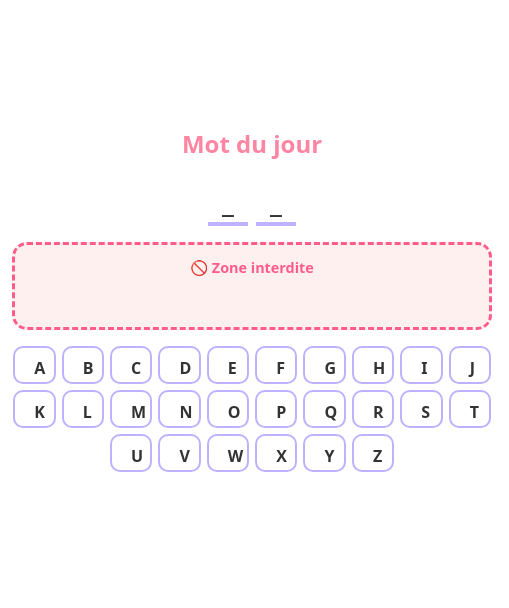
Test case: WordGame — interaction › affiche le message de victoire
The image size is (509, 608).
Click the button "O". click: (228, 409)
box: x1=207 y1=390 x2=249 y2=428
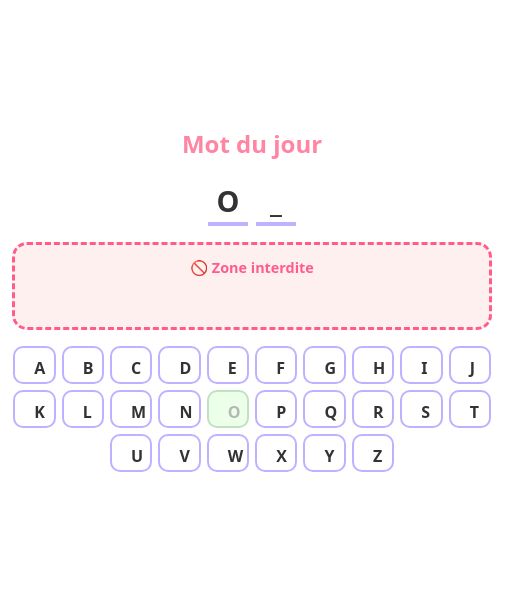
Click the button "K". click: (34, 409)
box: x1=13 y1=390 x2=56 y2=428
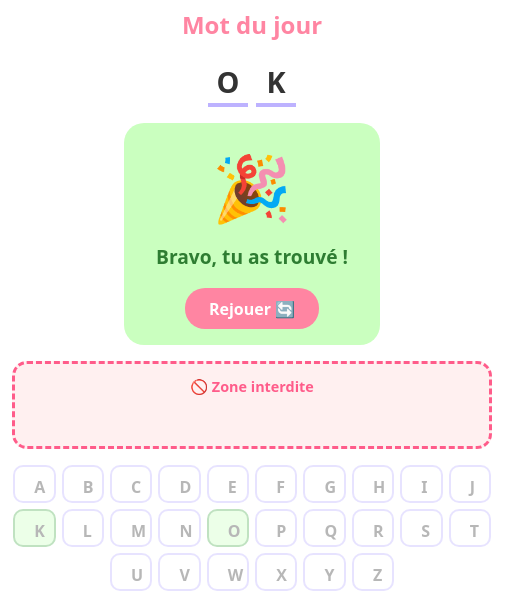
Expected: the element with test id "result-won" is shown, x1=124 y1=123 x2=380 y2=345
